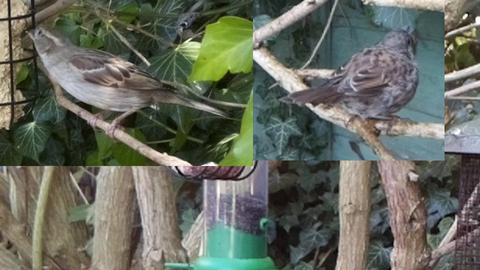dunnock: (278, 25, 420, 136)
sparrow: (25, 25, 228, 141)
